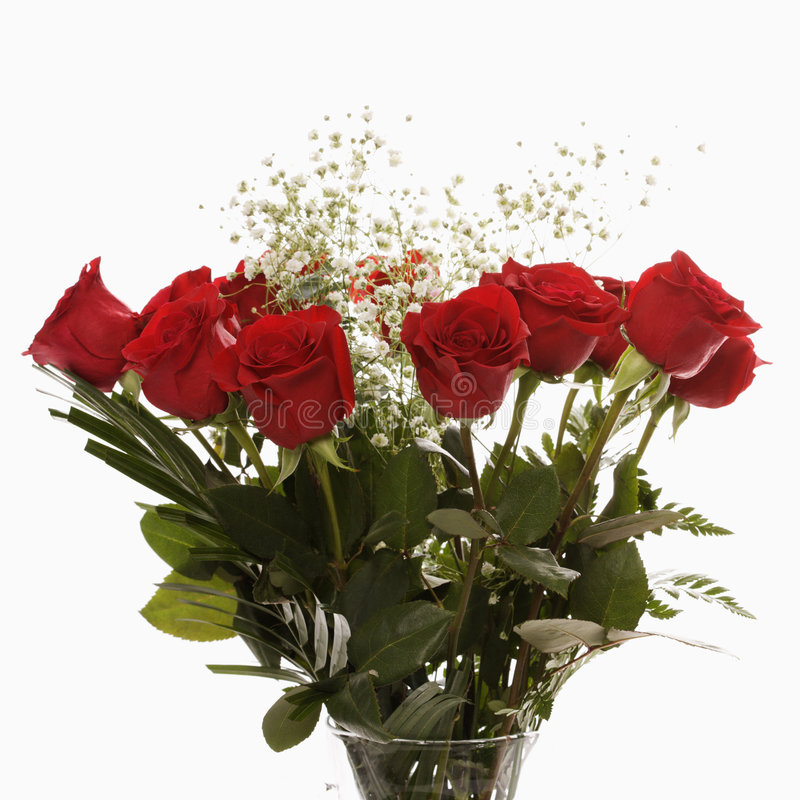RedRose: (614, 249, 742, 393), (234, 308, 365, 447), (480, 257, 619, 388), (417, 281, 535, 425), (123, 292, 247, 429), (29, 246, 132, 395), (678, 317, 767, 429), (189, 238, 273, 334)
